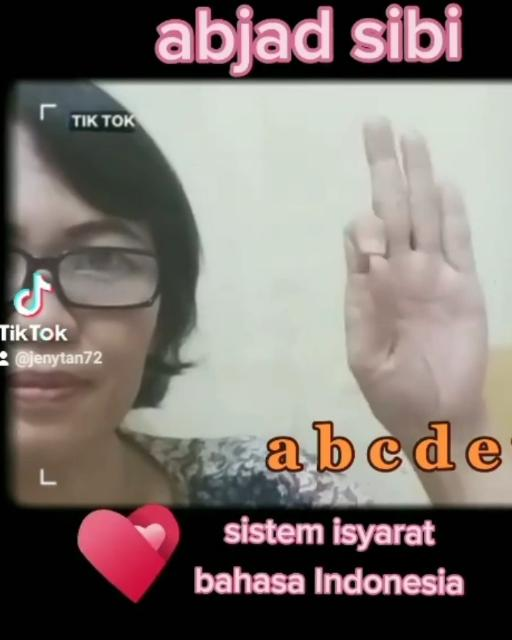F: (337, 110, 497, 416)
